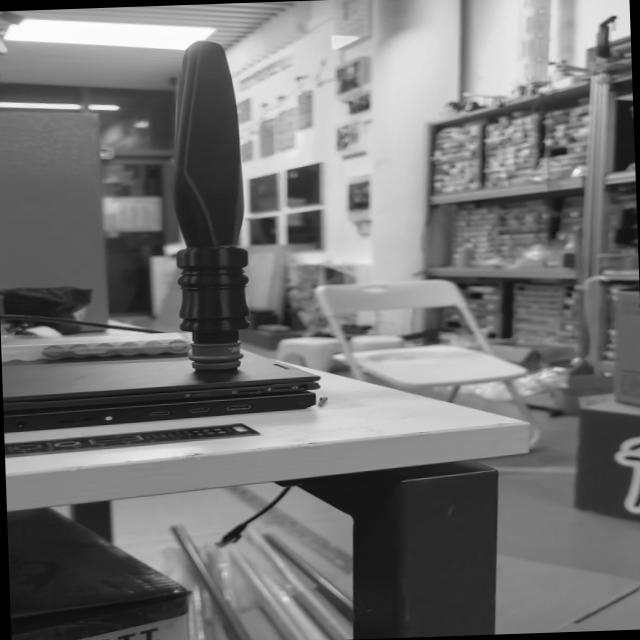base: (186, 339, 244, 370)
